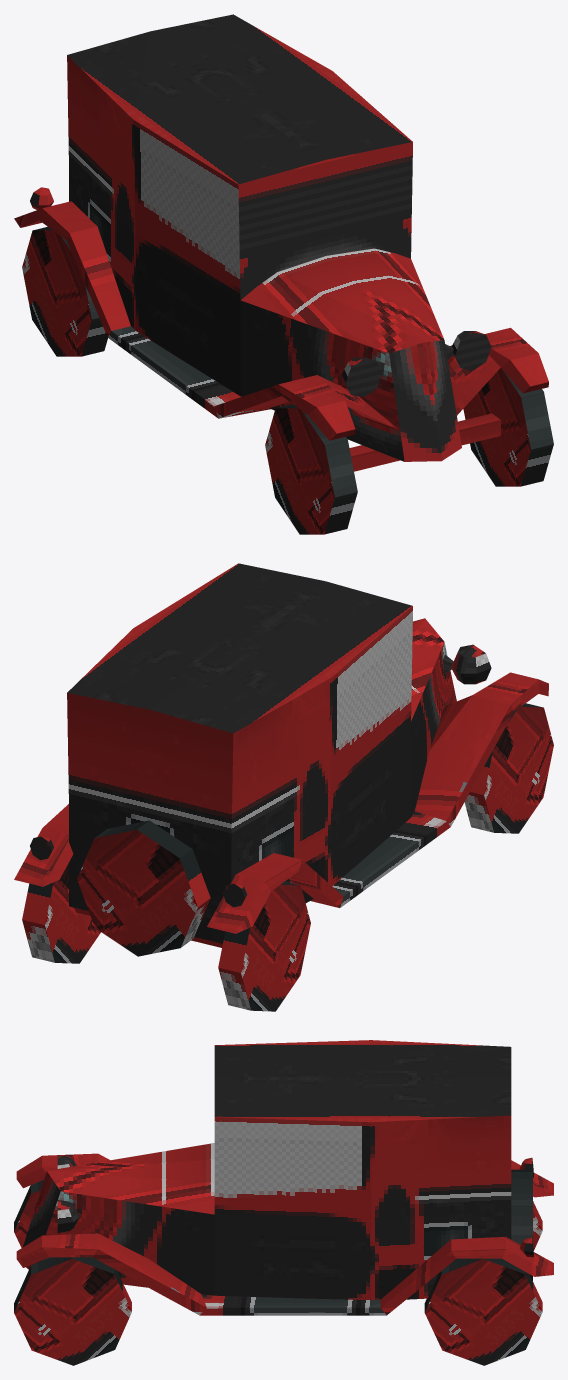
The model's file is car07_red.glb.
3 renders of one model, top to bottom at view 1: azimuth 30°, elevation 25°; view 2: azimuth 150°, elevation 25°; view 3: azimuth 270°, elevation 25°, orthographic. The views are drawn at different scales.
Visible parts, largest first — view 1: car07_red; view 2: car07_red; view 3: car07_red.
Boxes of the visible parts, x1,y1,x2,y2 form: car07_red: (14,14,553,534); car07_red: (14,563,553,1011); car07_red: (14,1040,553,1365).
Size of the model in its own units: 2.43 by 2.86 by 5.78.
Materials: 1 (1 with a texture image).
